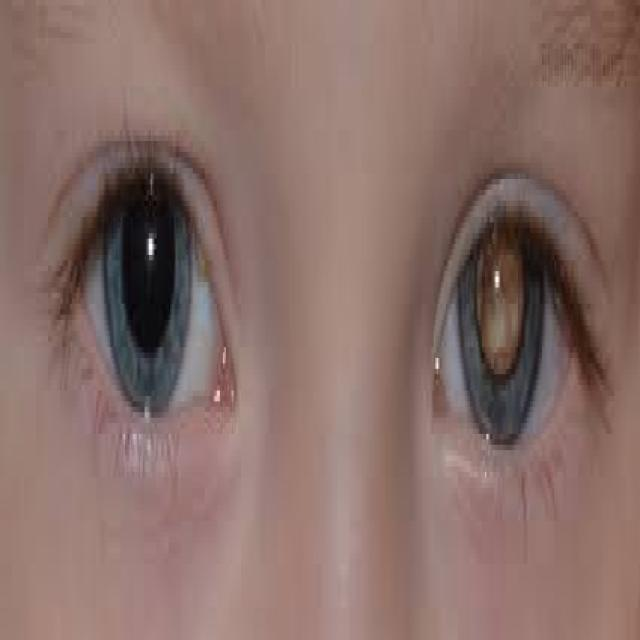reflexo-alterado: (457, 171, 555, 474)
reflexo-normal: (105, 130, 209, 434)
